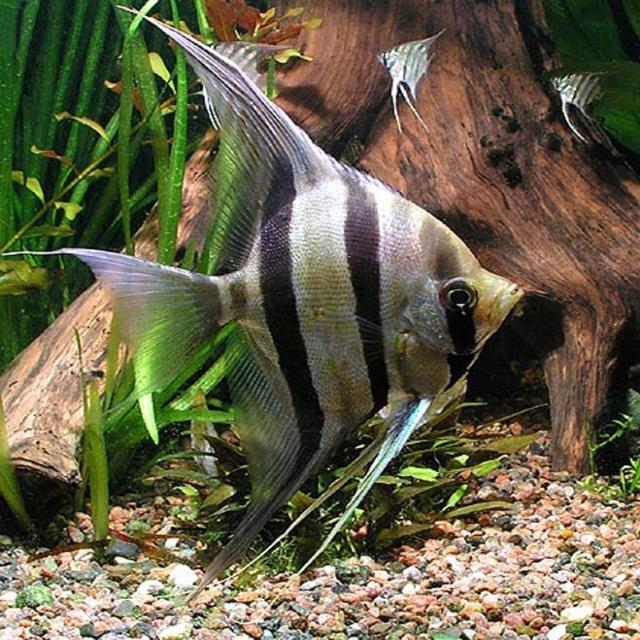AngelFish: (74, 17, 526, 599)
